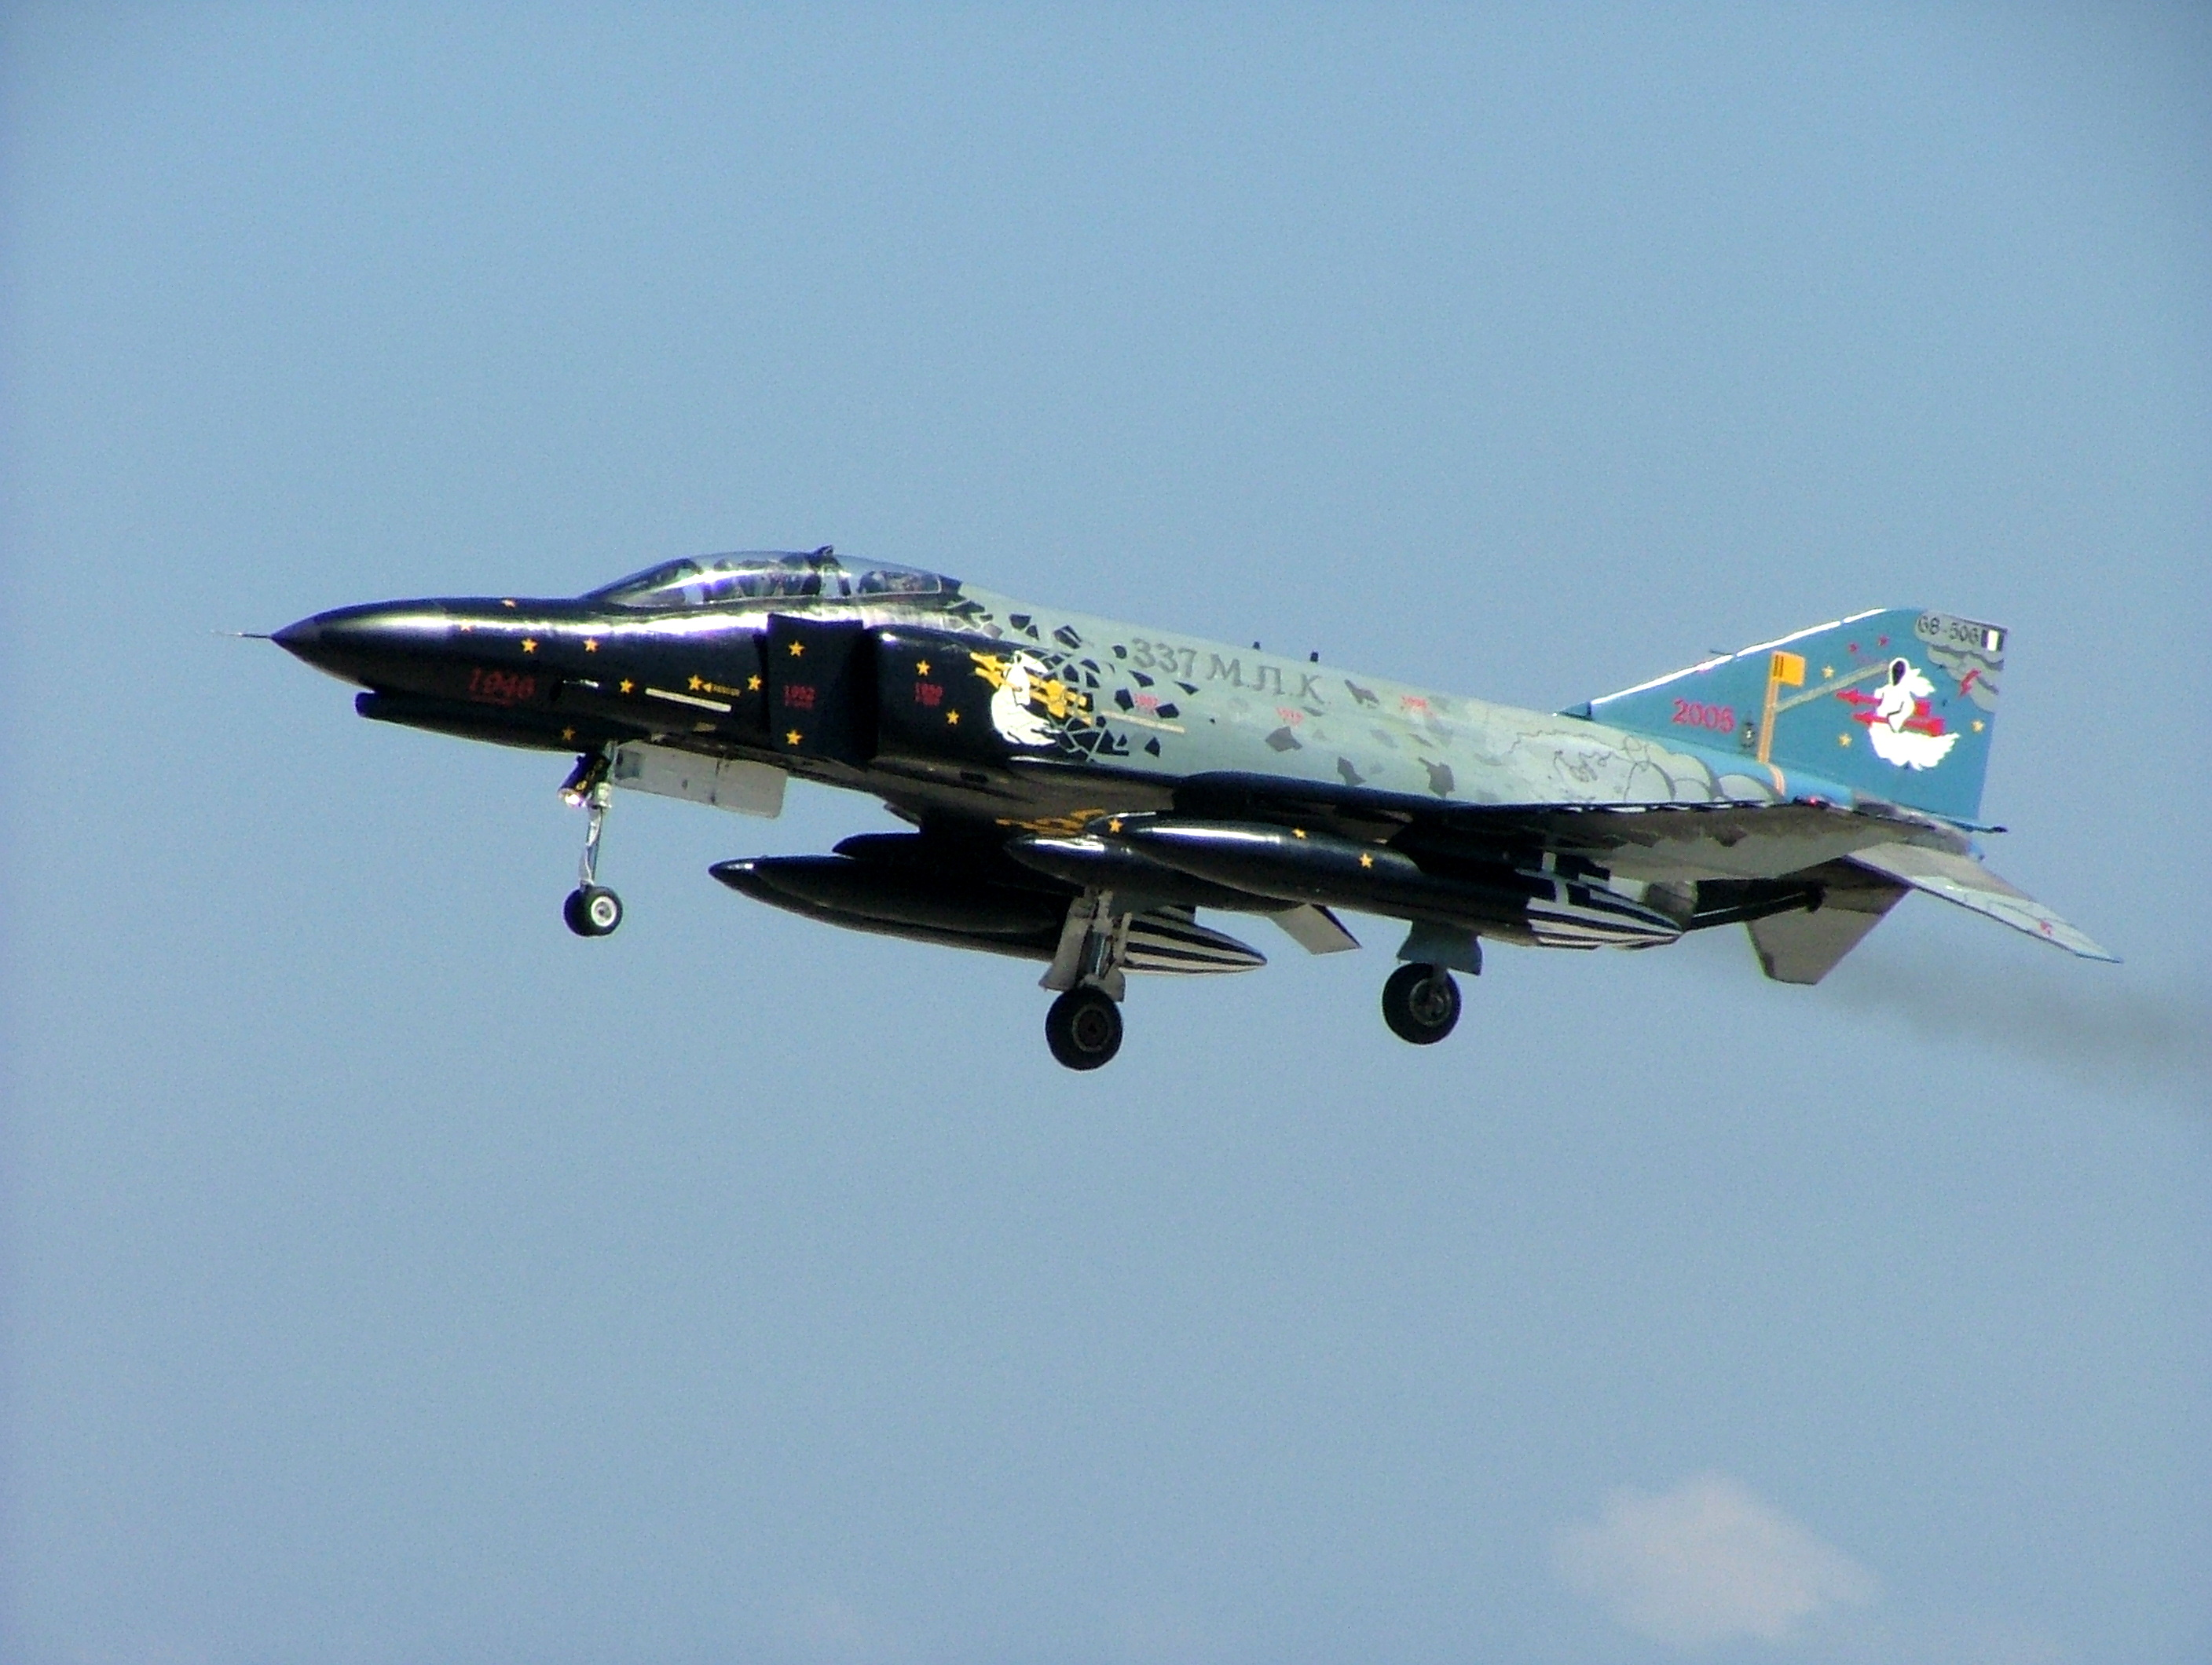F4: (194, 544, 2125, 1072)
